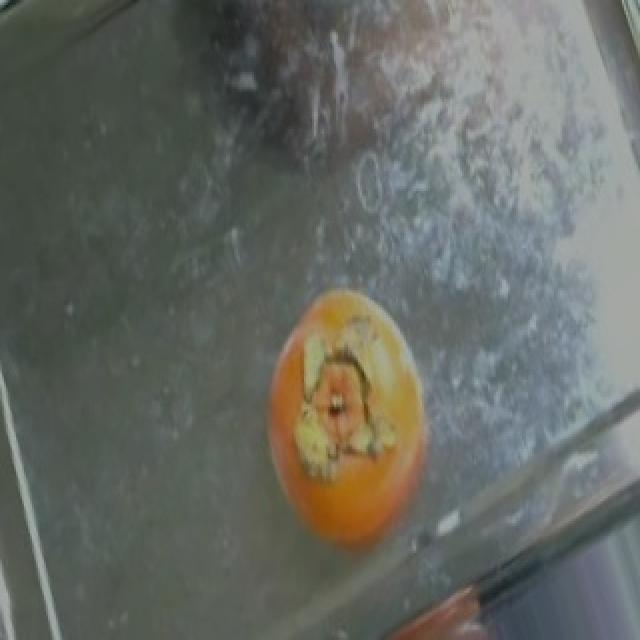Fruit: (246, 268, 452, 585), (0, 2, 186, 64), (348, 575, 524, 640)
